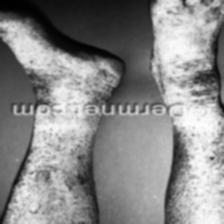Non-Cancerous Skin Condition: (0, 18, 120, 96), (12, 120, 85, 224), (152, 0, 222, 99), (174, 122, 224, 224)
